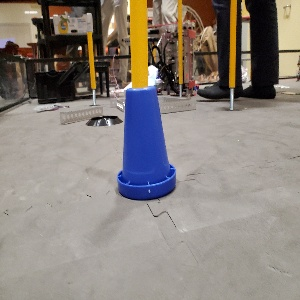Blue_1: (116, 86, 176, 199)
